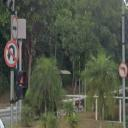NoVirarEsquerda: (118, 61, 128, 78)
NoVirarU: (4, 40, 20, 67)
